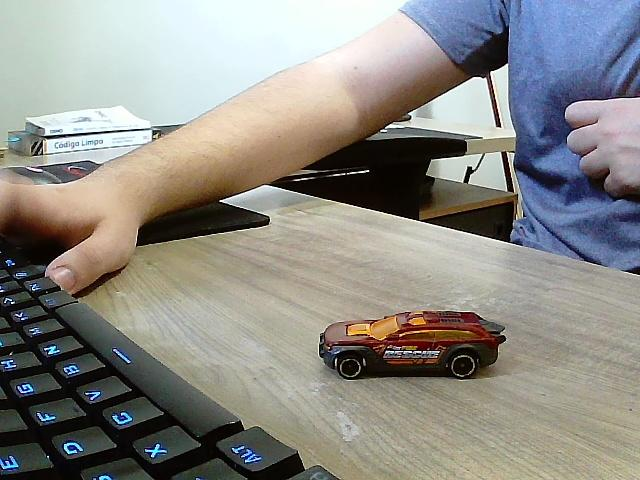Carro: (319, 311, 506, 380)
